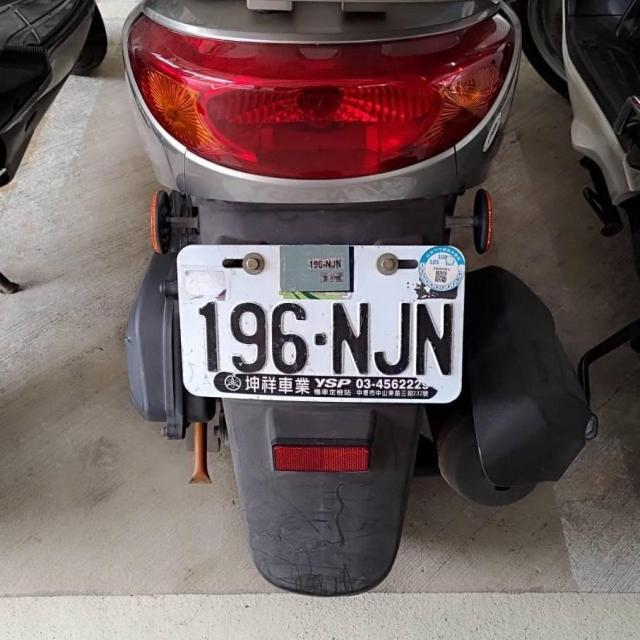W: (173, 236, 468, 408)
